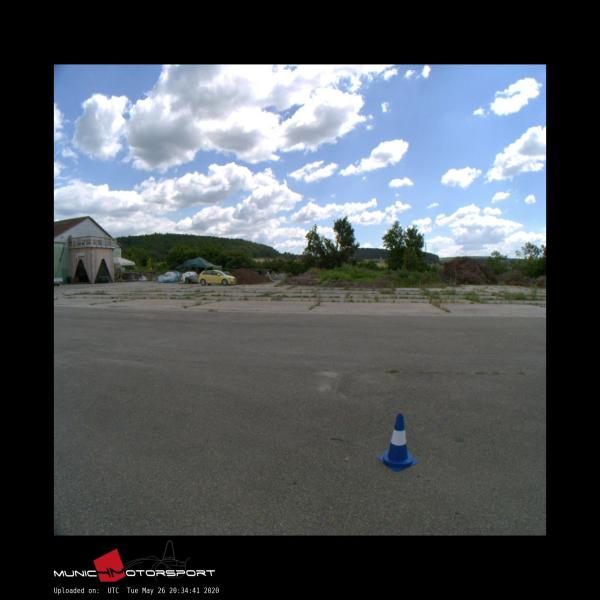blue_cone: (378, 413, 417, 470)
